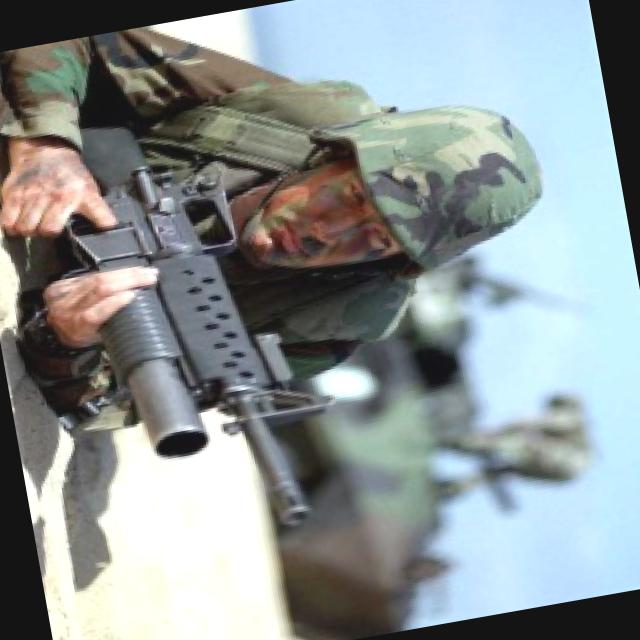long weapon: (11, 41, 352, 592)
